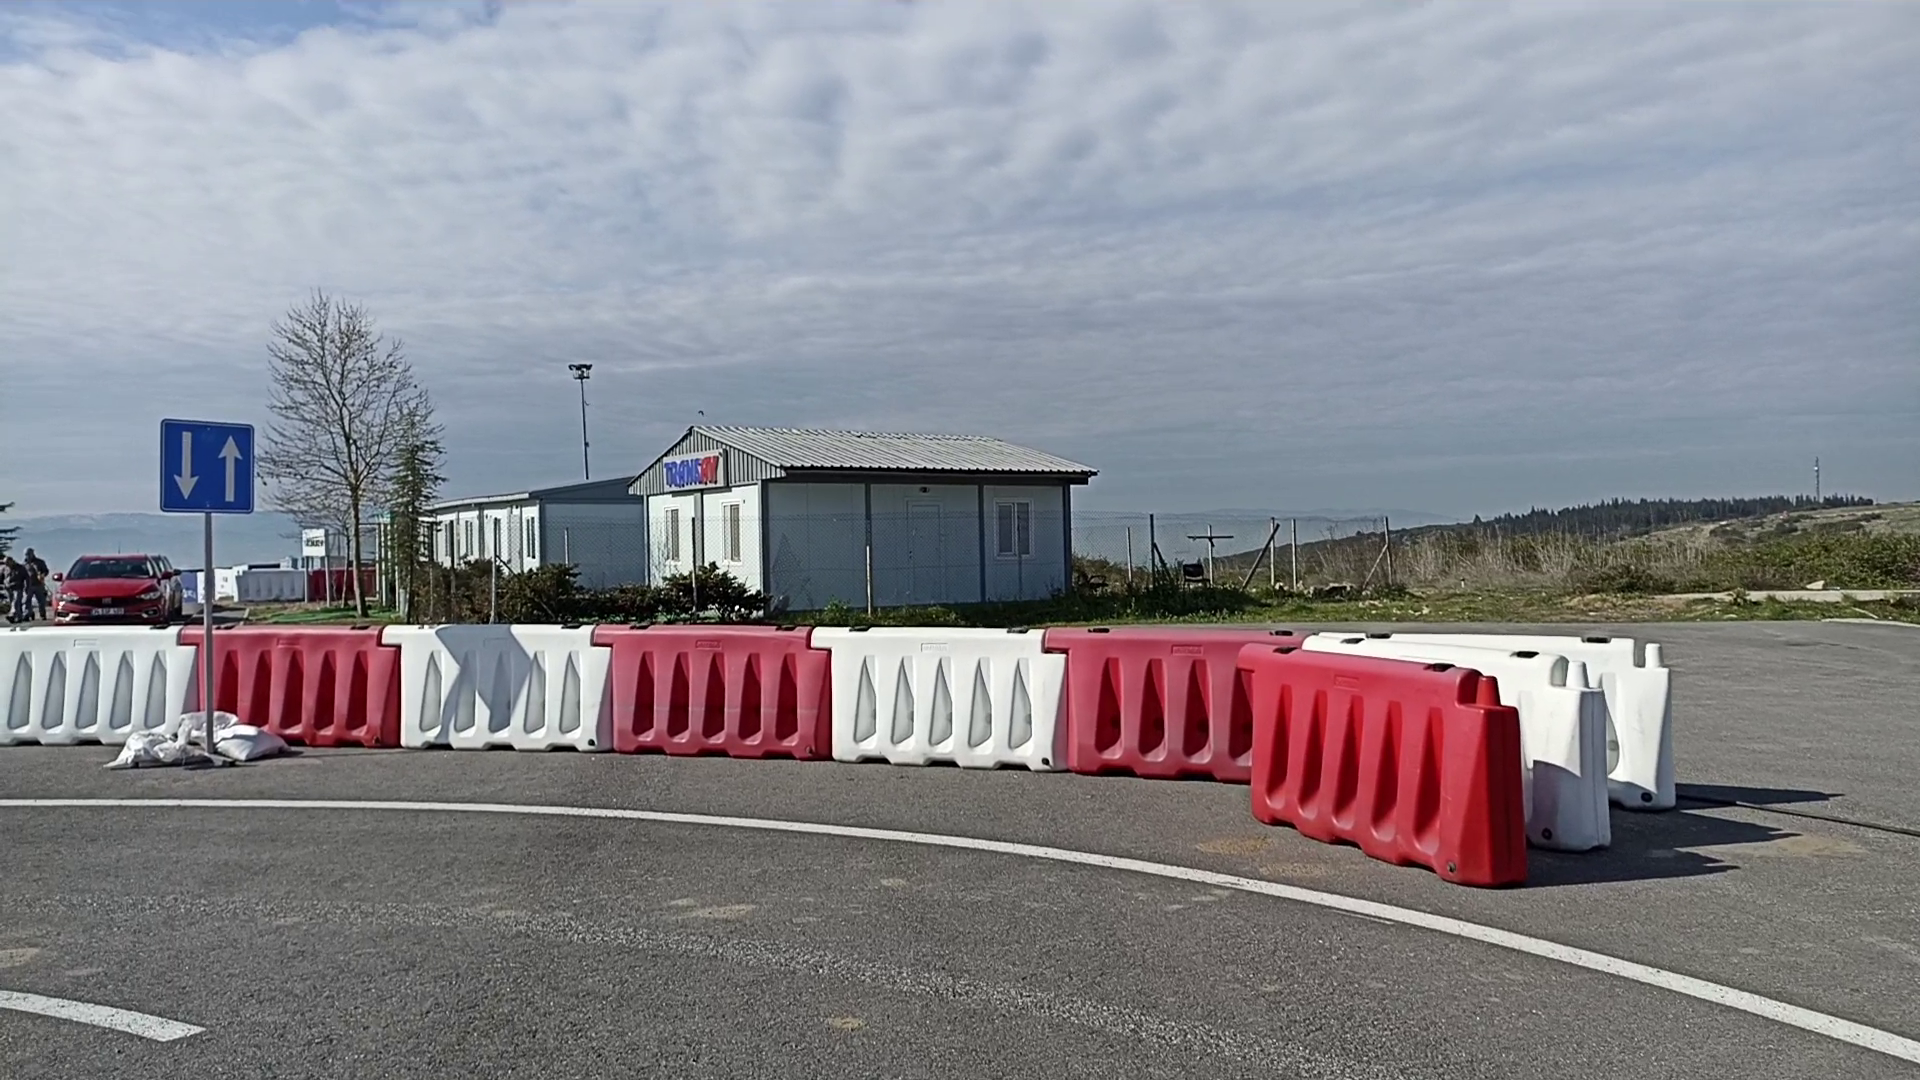oneway: (158, 415, 256, 516)
